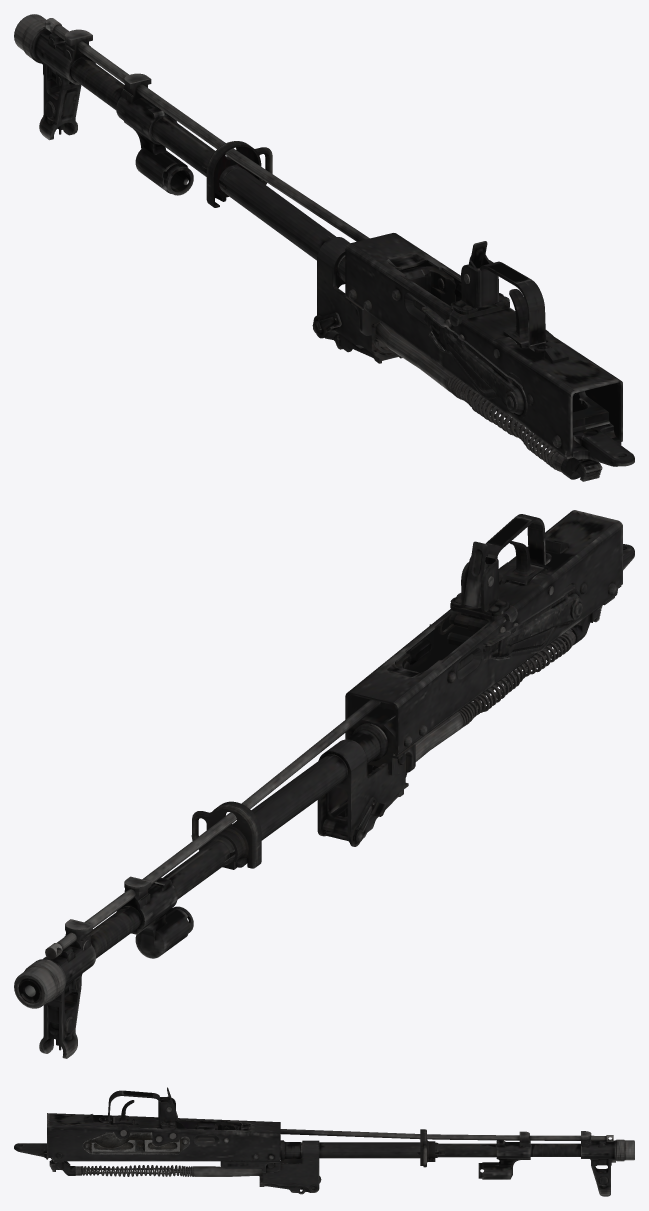
3 renders of one model, top to bottom at view 1: azimuth 30°, elevation 25°; view 2: azimuth 150°, elevation 25°; view 3: azimuth 270°, elevation 25°, orthographic. The views are drawn at different scales.
Parts seen in each view (by area): view 1: TW_5644bd2b4bdc2d3b4c8b4572_PZ_Import; view 2: TW_5644bd2b4bdc2d3b4c8b4572_PZ_Import; view 3: TW_5644bd2b4bdc2d3b4c8b4572_PZ_Import.
Boxes of the visible parts, left/top/right/bottom form: TW_5644bd2b4bdc2d3b4c8b4572_PZ_Import: left=14, top=14, right=634, bottom=481; TW_5644bd2b4bdc2d3b4c8b4572_PZ_Import: left=14, top=510, right=634, bottom=1058; TW_5644bd2b4bdc2d3b4c8b4572_PZ_Import: left=14, top=1087, right=634, bottom=1196.
Bounding box in the file's own units: 0.0285 × 0.3937 × 0.0735.
Materials: 1 (1 with a texture image).
